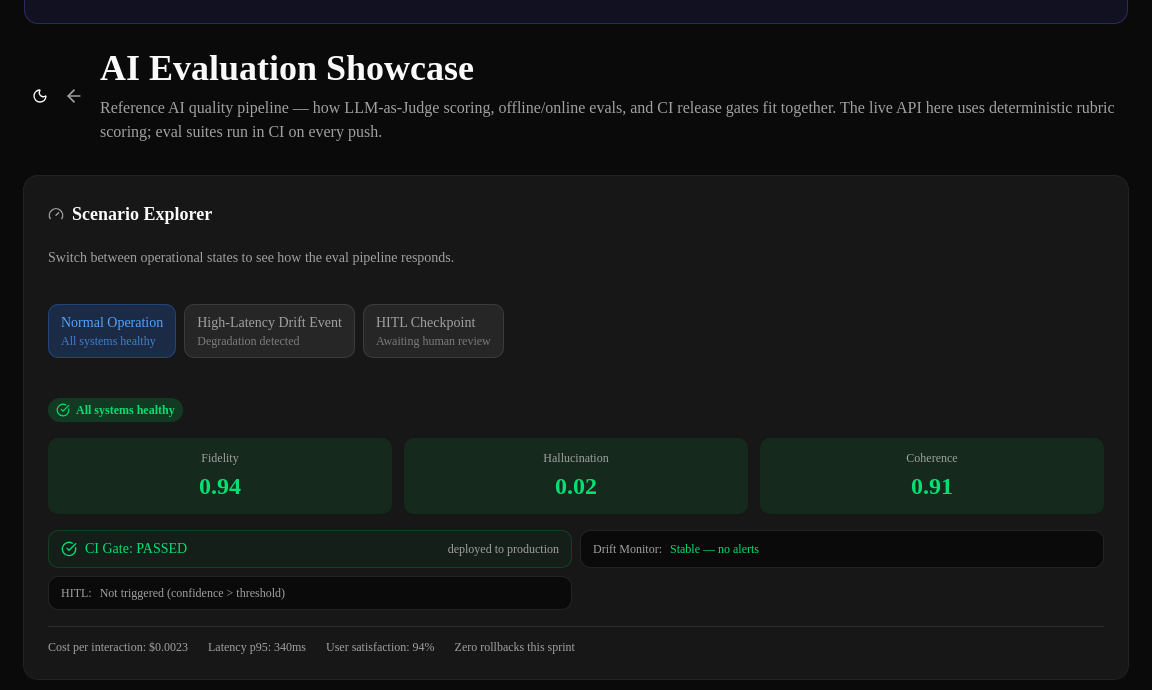
Test: EvaluationShowcasePage › switches Scenario Explorer tabs and renders drift + hitl states
(page scrolled)
Expected: the text "All systems healthy" is shown, [61, 332, 163, 348]
What coordinates should you click on to do the following:
click the button "High-Latency Drift Event Degradation detected"
I would click on:
 (270, 330)
Its box is [184, 304, 355, 358].
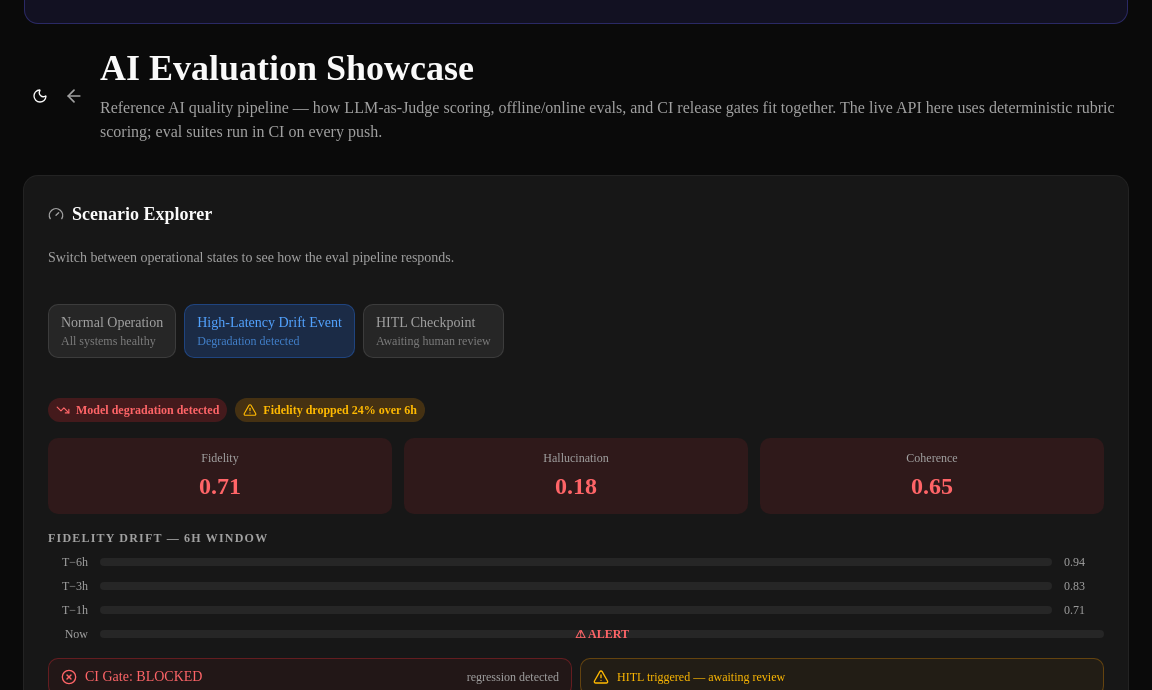
Result: the text "Model degradation detected" is shown at [48, 398, 227, 422]
Result: the text "CI Gate: BLOCKED" is shown at [85, 666, 202, 686]
What coordinates should you click on to do the following:
click the button "HITL Checkpoint Awaiting human review"
I would click on:
 (433, 330)
Its box is [363, 304, 504, 358].
(page scrolled)
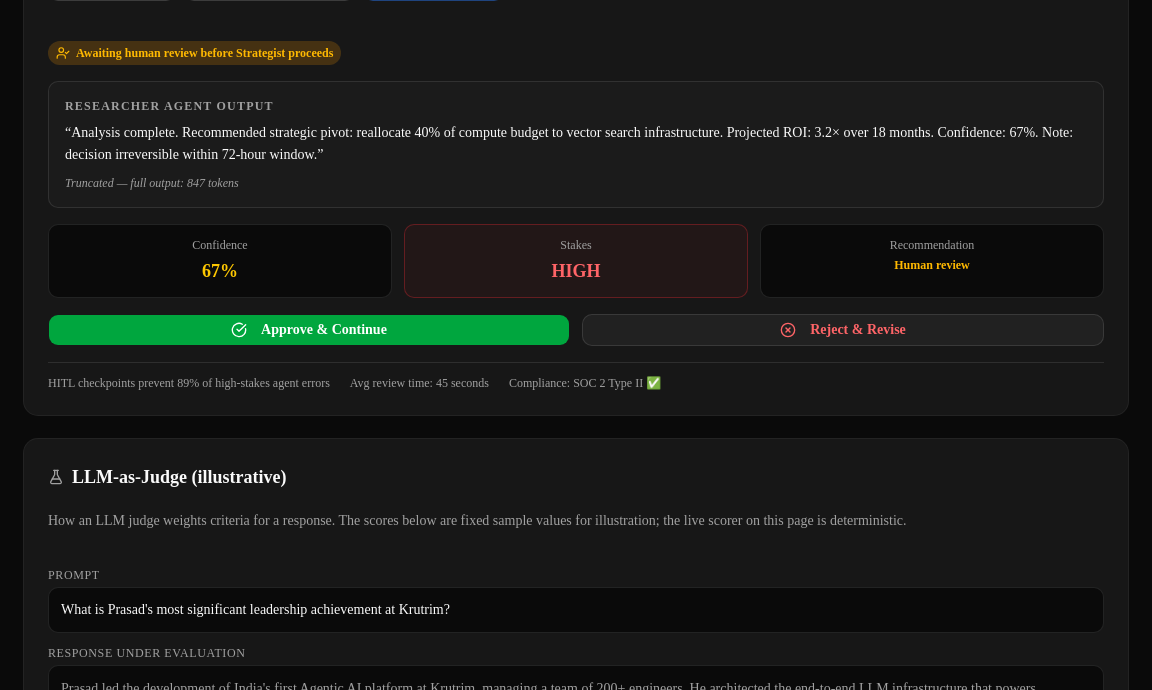
Result: the text "Awaiting human review before Strategist proceeds" is shown at [48, 40, 341, 64]
Result: the button "Approve & Continue" is shown at [48, 314, 570, 346]
Result: the button "Reject & Revise" is shown at [582, 314, 1104, 346]
